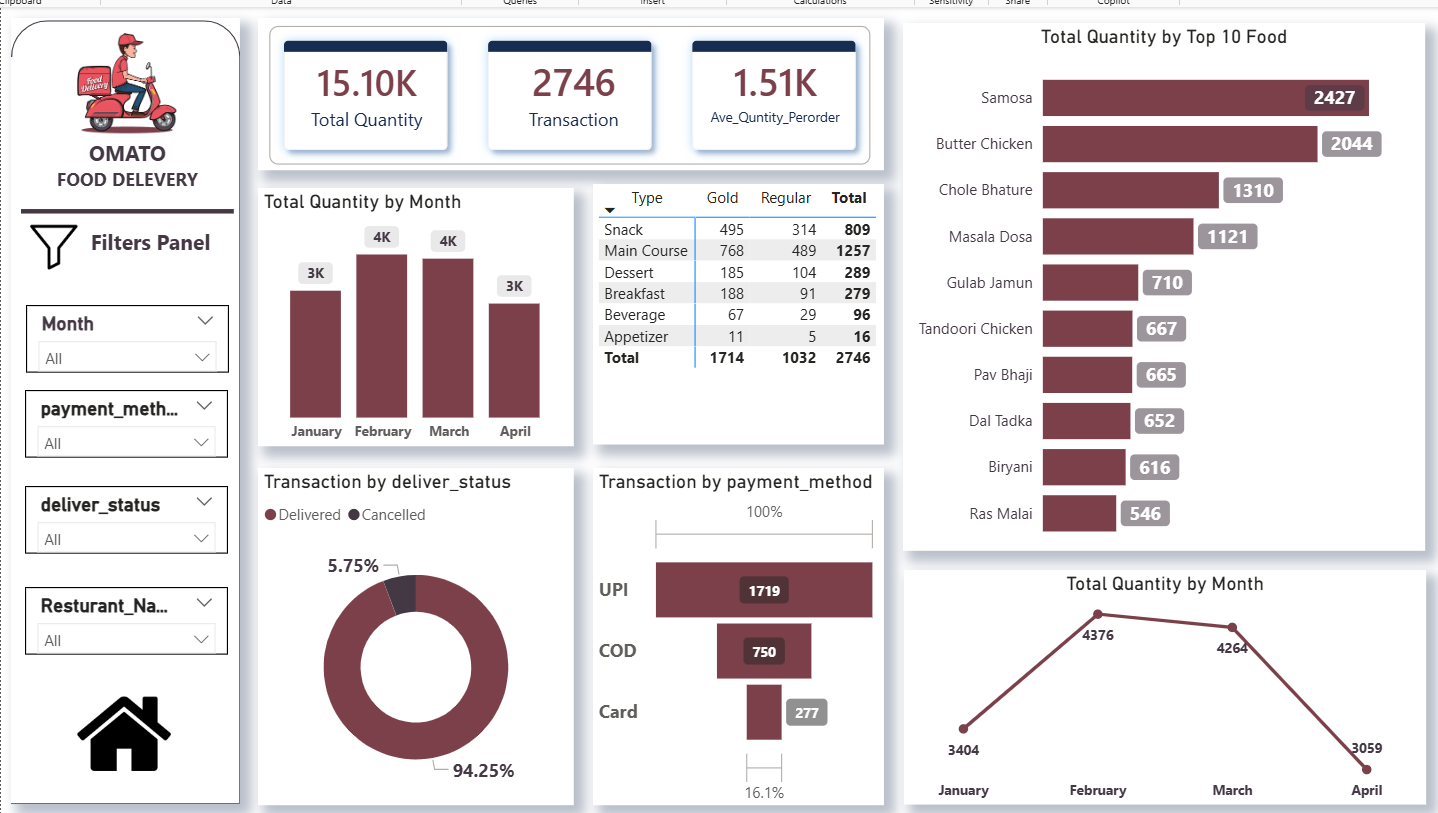

What the dashboard file says about the page in this screenshot:
{"tool":"powerbi","page":{"name":"OMATO DASHBOARD","canvas":[1280,720],"ordinal":0},"visuals":[{"type":"shape","box":[8.8,9.7,203.3,697.4],"z":0},{"type":"image","box":[43.8,23.3,135.2,88.5],"z":1000},{"type":"textbox","box":[17.5,111.9,188.7,58.4],"z":2000},{"type":"shape","box":[17.5,163.4,188.7,36],"z":3000},{"type":"cardVisual","fields":{"Data":["Sales Data.Total Quantity","Sales Data.Transaction","Sales Data.Ave_Quntity_Perorder"]},"box":[227.6,9.7,555.4,135.2],"z":4000},{"type":"clusteredColumnChart","fields":{"Category":["Sales Data.orderDate.Variation.Date Hierarchy.Month"],"Y":["Sales Data.Total Quantity"]},"box":[227.6,160.5,280.1,228.6],"z":5000},{"type":"pivotTable","fields":{"Rows":["Food_Details.Type"],"Columns":["Customer Details.member_Type"],"Values":["Sales Data.Transaction"]},"box":[525.2,156.6,257.8,230.5],"z":6000},{"type":"donutChart","fields":{"Category":["Sales Data.deliver_status"],"Y":["Sales Data.Transaction"]},"box":[227.6,408.5,280.1,298.6],"z":7000},{"type":"funnel","fields":{"Y":["Sales Data.Transaction"],"Category":["Sales Data.payment_method"]},"box":[525.2,408.5,257.8,298.6],"z":8000},{"type":"clusteredBarChart","title":"Total Quantity by Top 10 Food","fields":{"Category":["Food_Details.Food"],"Y":["Sales Data.Total Quantity"]},"box":[799.5,14.6,463,467.8],"z":9000},{"type":"lineChart","fields":{"Category":["Sales Data.orderDate.Variation.Date Hierarchy.Month"],"Y":["Sales Data.Total Quantity"]},"box":[800.5,499,463,208.1],"z":10000},{"type":"slicer","fields":{"Values":["Sales Data.orderDate.Variation.Date Hierarchy.Month"]},"box":[22,264.5,179.9,60.3],"z":11000,"group":"g1"},{"type":"image","box":[57.6,603,102.9,83.3],"z":11000},{"type":"group","id":"g1","title":"Group 1","box":[21.4,264.5,180.5,310.3],"z":12000},{"type":"slicer","fields":{"Values":["Sales Data.payment_method"]},"box":[21.4,339.4,179.9,60.3],"z":12000,"group":"g1"},{"type":"image","box":[8.9,191.5,76.3,42.6],"z":12001},{"type":"textbox","box":[74.5,190.6,127.7,44.3],"z":12002},{"type":"slicer","fields":{"Values":["Sales Data.deliver_status"]},"box":[21.4,425,179.9,60.3],"z":13000,"group":"g1"},{"type":"slicer","fields":{"Values":["Resturant_Details.Resturant_Name"]},"box":[21.4,514.5,179.9,60.3],"z":14000,"group":"g1"}]}

Visuals, with their boxes on the page's 1280x720 design canvas (x1, y1, x2, y2). These are canvas units, not pixel positions in the 1438x813 screenshot, which may show the page scaled, cropped or inside an application window:
shape: locate(9, 10, 212, 707)
image: locate(44, 23, 179, 112)
textbox: locate(18, 112, 206, 170)
shape: locate(18, 163, 206, 199)
cardVisual - Sales Data.Total Quantity x Sales Data.Transaction: locate(228, 10, 783, 145)
clusteredColumnChart - Sales Data.orderDate.Variation.Date Hierarchy.Month x Sales Data.Total Quantity: locate(228, 160, 508, 389)
pivotTable - Food_Details.Type x Customer Details.member_Type: locate(525, 157, 783, 387)
donutChart - Sales Data.deliver_status x Sales Data.Transaction: locate(228, 408, 508, 707)
funnel - Sales Data.Transaction x Sales Data.payment_method: locate(525, 408, 783, 707)
"Total Quantity by Top 10 Food" clusteredBarChart: locate(800, 15, 1262, 482)
lineChart - Sales Data.orderDate.Variation.Date Hierarchy.Month x Sales Data.Total Quantity: locate(800, 499, 1264, 707)
slicer - Sales Data.orderDate.Variation.Date Hierarchy.Month: locate(22, 264, 202, 325)
image: locate(58, 603, 160, 686)
"Group 1" group: locate(21, 264, 202, 575)
slicer - Sales Data.payment_method: locate(21, 339, 201, 400)
image: locate(9, 192, 85, 234)
textbox: locate(74, 191, 202, 235)
slicer - Sales Data.deliver_status: locate(21, 425, 201, 485)
slicer - Resturant_Details.Resturant_Name: locate(21, 514, 201, 575)
